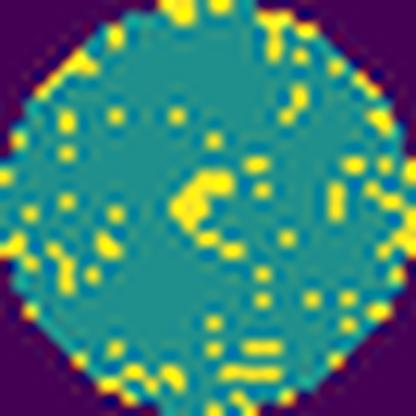Center: (164, 166, 238, 251)
